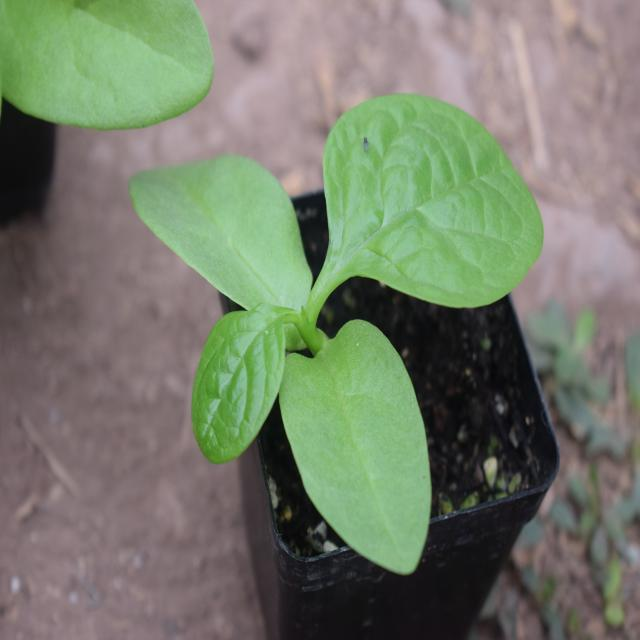Ceylon spinach: (148, 114, 540, 576)
